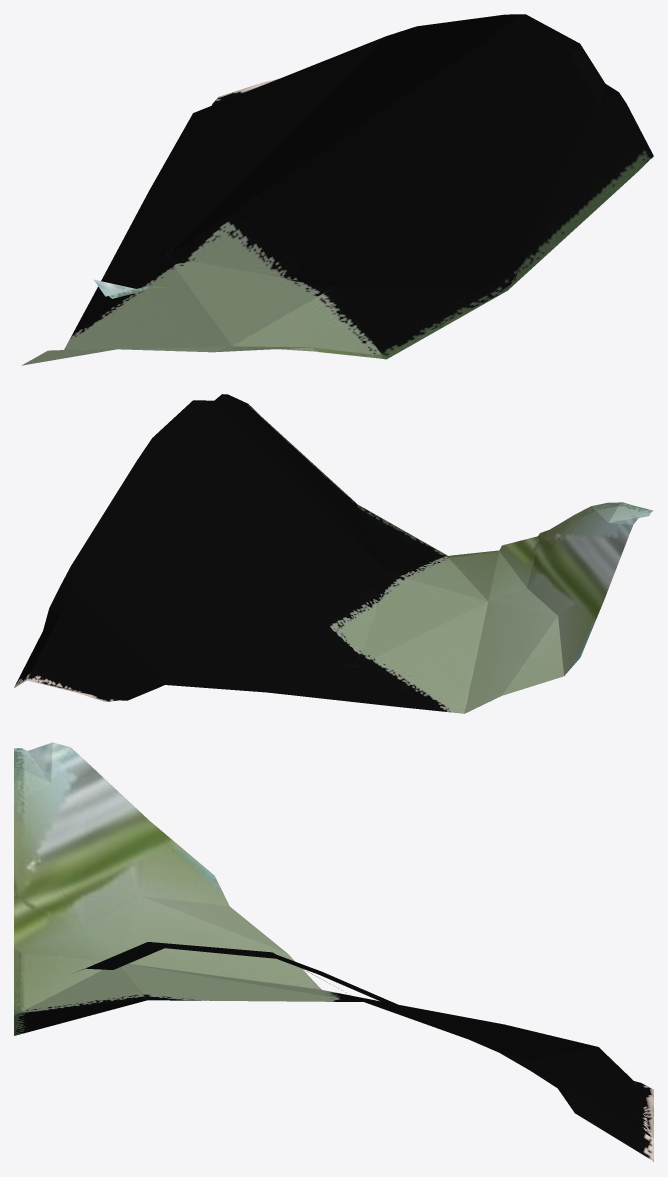
The picture shows the model from 3 angles, top to bottom: view 1: azimuth 30°, elevation 25°; view 2: azimuth 150°, elevation 25°; view 3: azimuth 270°, elevation 25°; orthographic projection. The views are drawn at different scales.
Size of the model in its own units: 3.35 by 1.51 by 3.35.
Materials: 2 (2 with a texture image).
